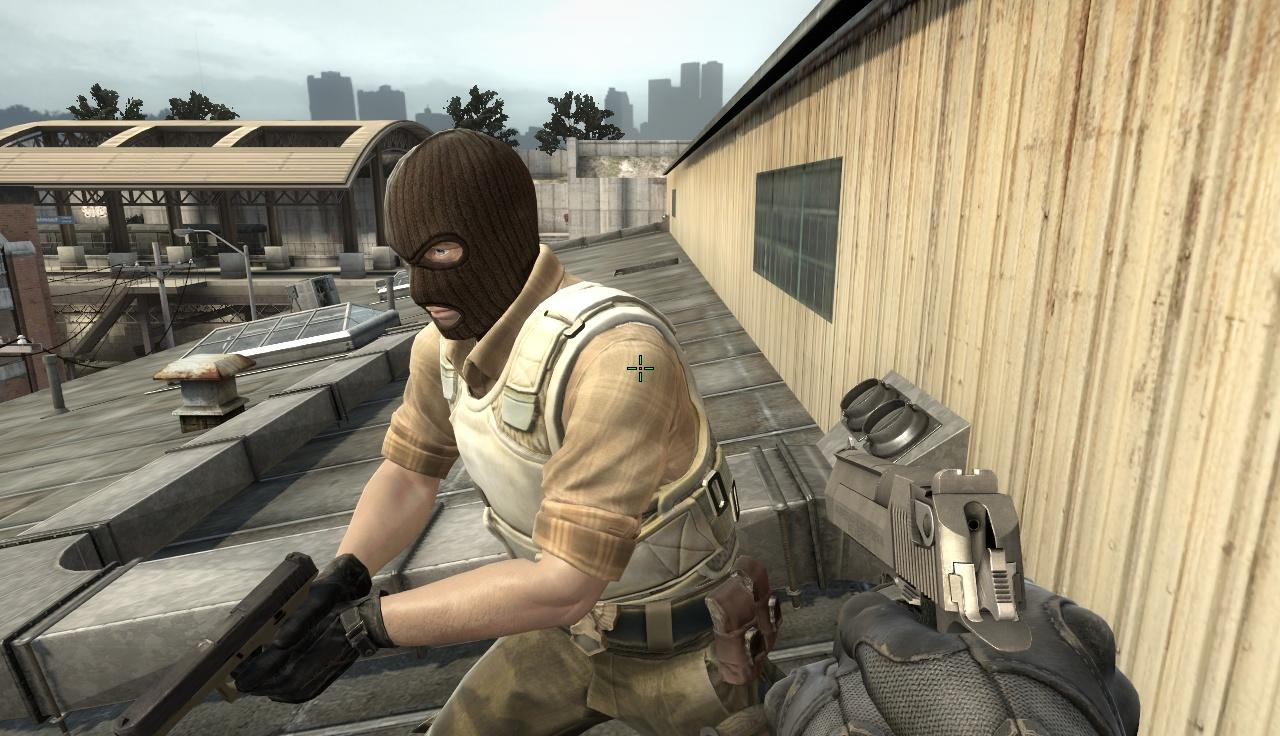pistol: (815, 435, 1123, 733)
tt: (379, 126, 743, 736)
tthead: (387, 129, 535, 343)
